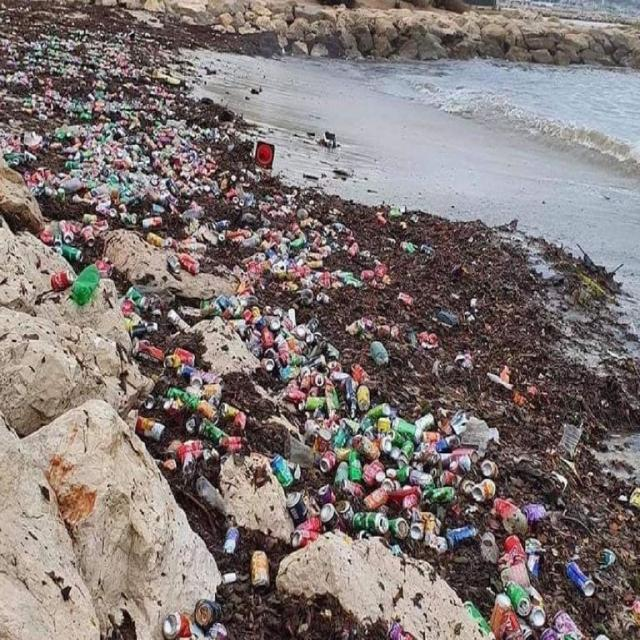garbage: (139, 221, 512, 640), (0, 17, 162, 213)
